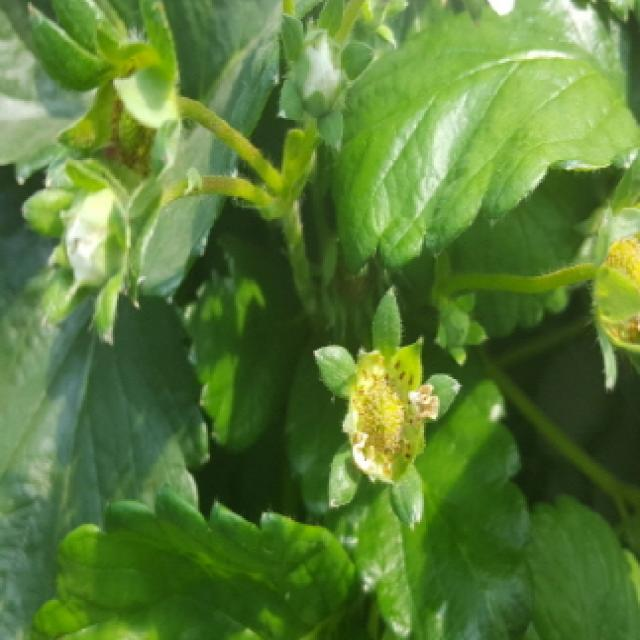Blossom Blight: (344, 355, 438, 483)
